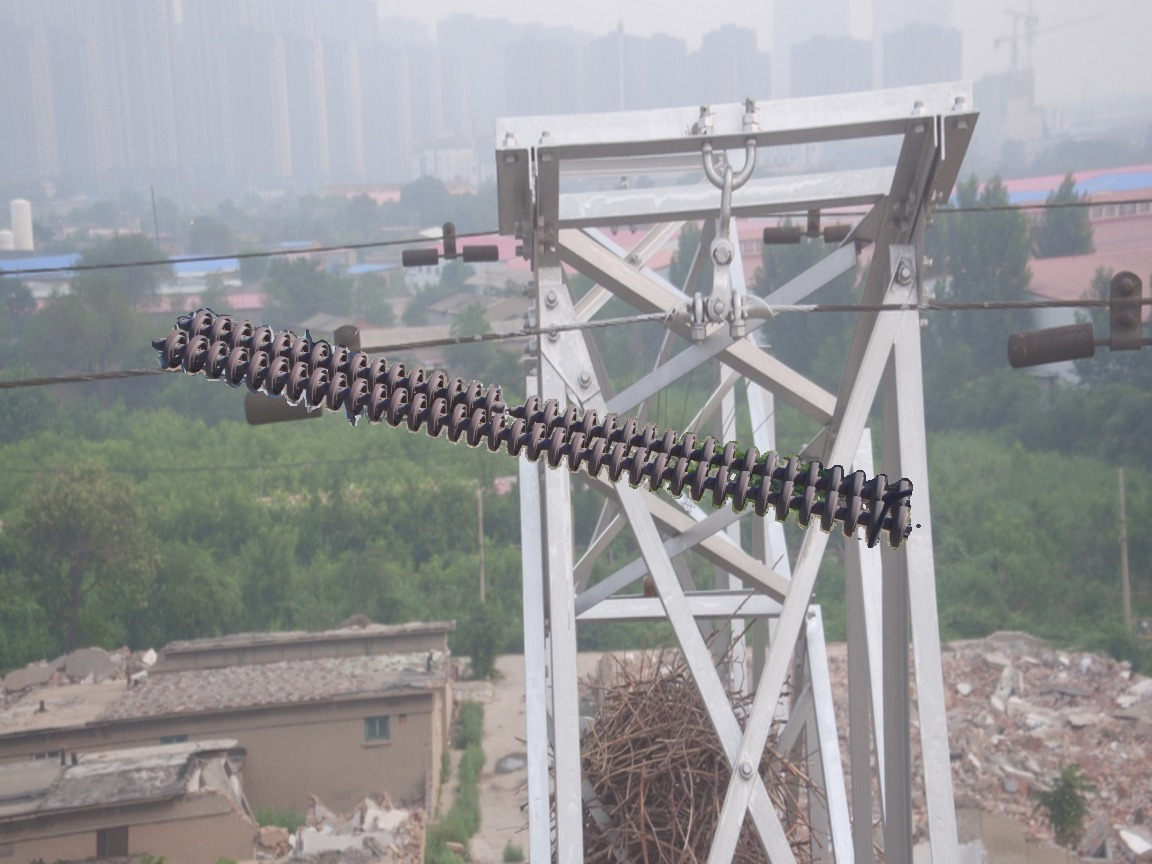defect: (480, 383, 547, 425)
